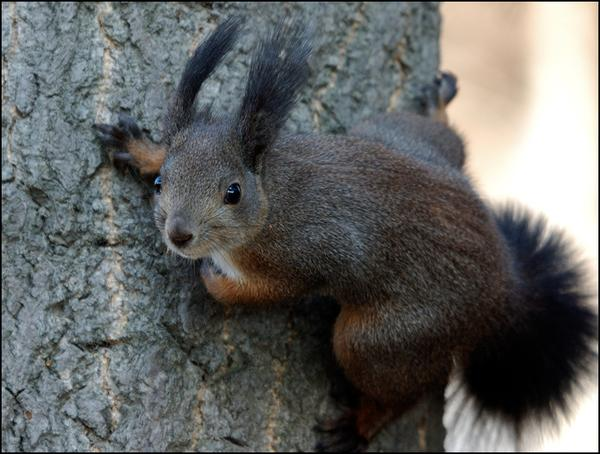chungseolmo: (84, 27, 595, 447)
